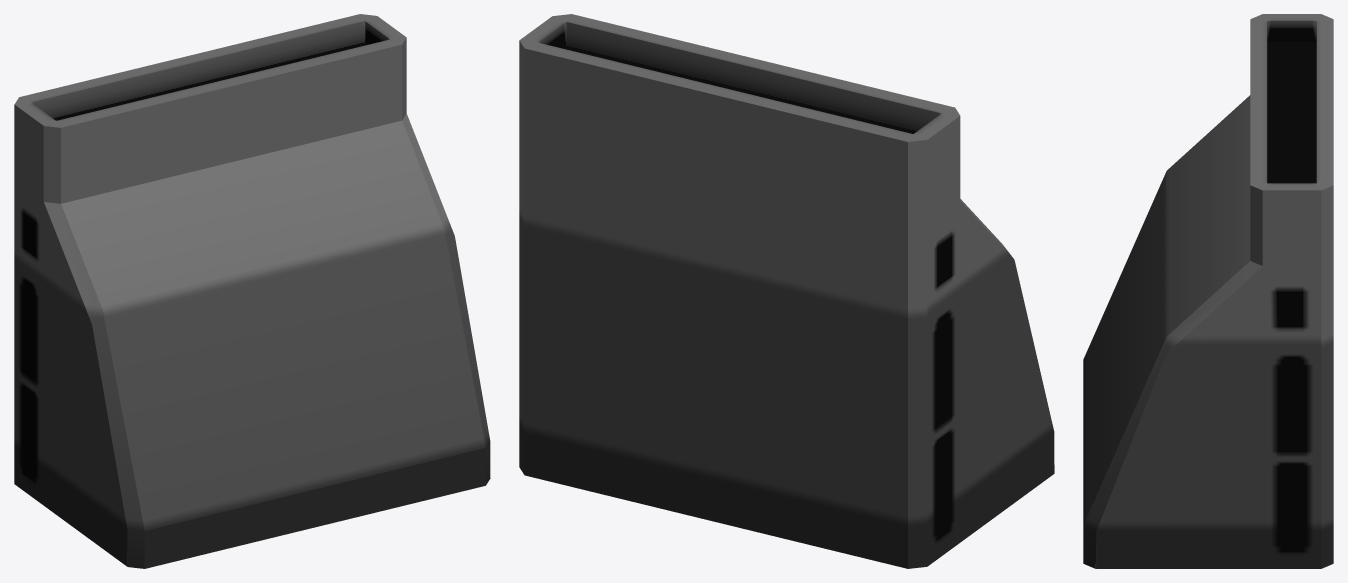
File: wall_single_one_straight1.fbx
The picture shows the model from 3 angles, left to right: view 1: azimuth 30°, elevation 25°; view 2: azimuth 150°, elevation 25°; view 3: azimuth 270°, elevation 25°; orthographic projection. The views are drawn at different scales.
Parts seen in each view (by area): view 1: wall_single_one_straight1; view 2: wall_single_one_straight1; view 3: wall_single_one_straight1.
Boxes of the visible parts, x1,y1,x2,y2 form: wall_single_one_straight1: (14, 14, 490, 568); wall_single_one_straight1: (519, 14, 1054, 568); wall_single_one_straight1: (1083, 14, 1333, 568).
Size of the model in its own units: 1 by 1 by 0.6.
Materials: 1 (1 with a texture image).
